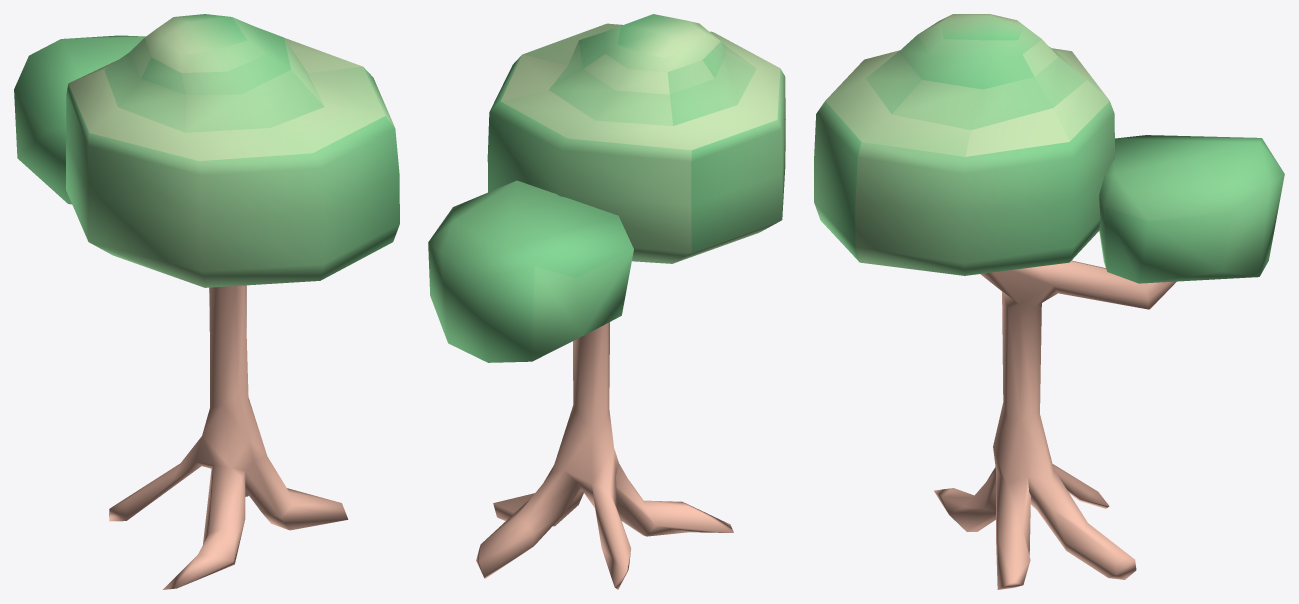
Rendered from Tree_Smooth.fbx.
The picture shows the model from 3 angles, left to right: view 1: azimuth 30°, elevation 25°; view 2: azimuth 150°, elevation 25°; view 3: azimuth 270°, elevation 25°; orthographic projection. The views are drawn at different scales.
Visible parts, largest first — view 1: tronc; view 2: tronc; view 3: tronc.
Boxes of the visible parts, x1=… form: tronc: x1=14, y1=14, x2=399, y2=589; tronc: x1=428, y1=14, x2=785, y2=589; tronc: x1=814, y1=14, x2=1284, y2=589.
Size of the model in its own units: 400 by 732 by 610.
